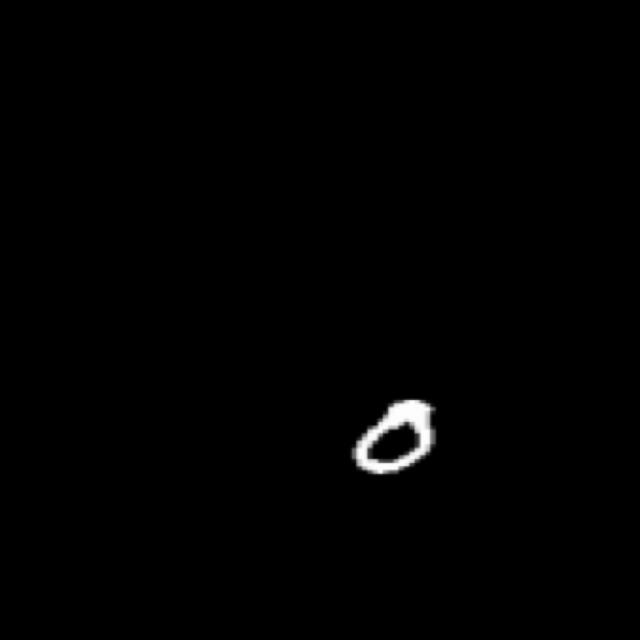zero -0-: (334, 388, 449, 487)
